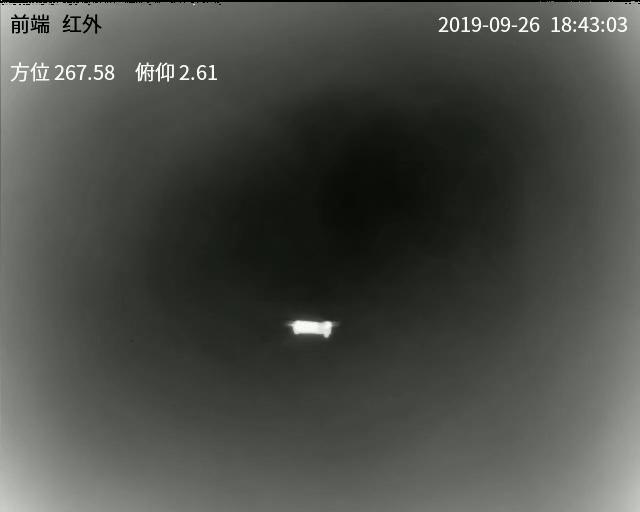uav: (280, 315, 339, 340)
